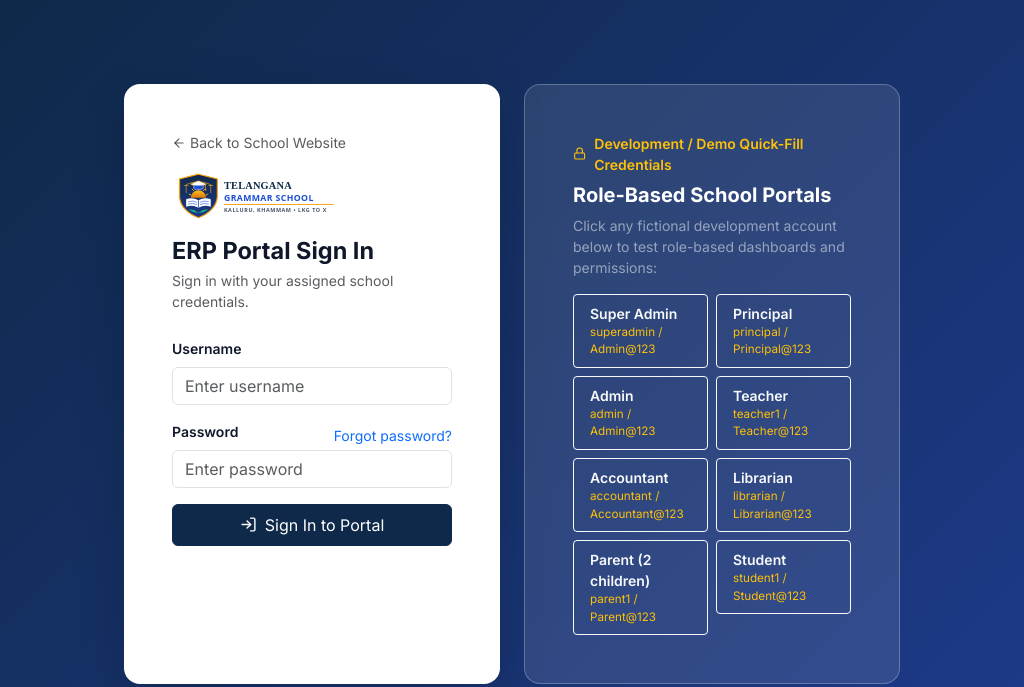
Test: Telangana Grammar School Frontend Suite › redirects unauthenticated portal access to Login and logs in user
Expected: the heading "ERP Portal Sign In" is shown, [172,236,374,265]
Type "admin" into the field labelled "Username" at {"x": 312, "y": 386}, box [172,366,452,404]
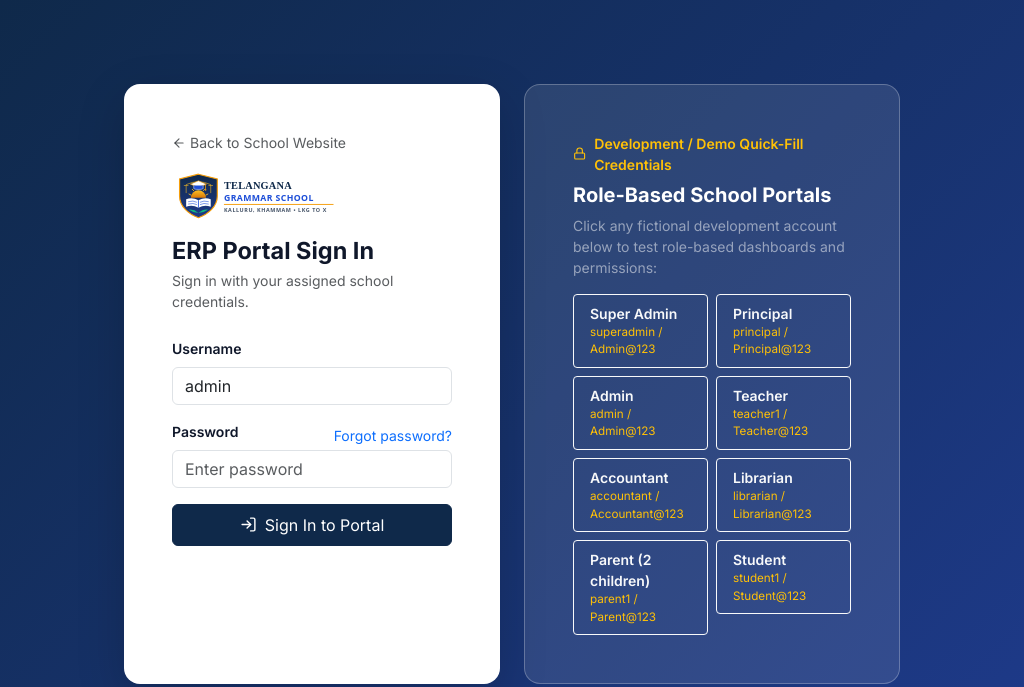
Type "Admin@123" into the password field labelled "Password" at {"x": 312, "y": 468}, box [172,450,452,488]
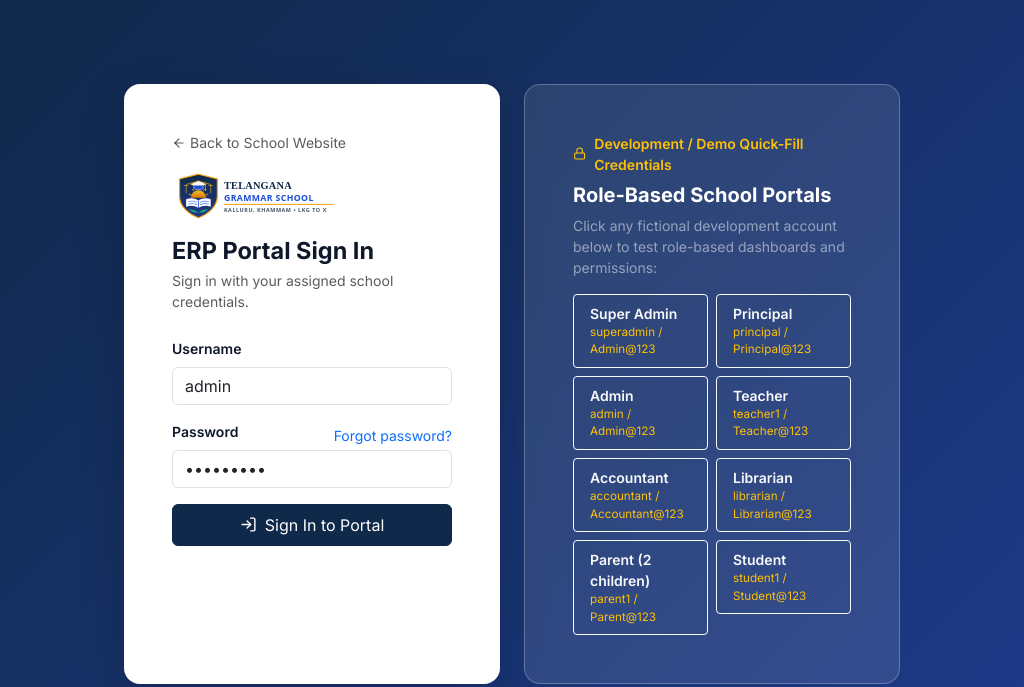
Click the button "Sign In to Portal" at {"x": 312, "y": 524}, box [172,504,452,546]
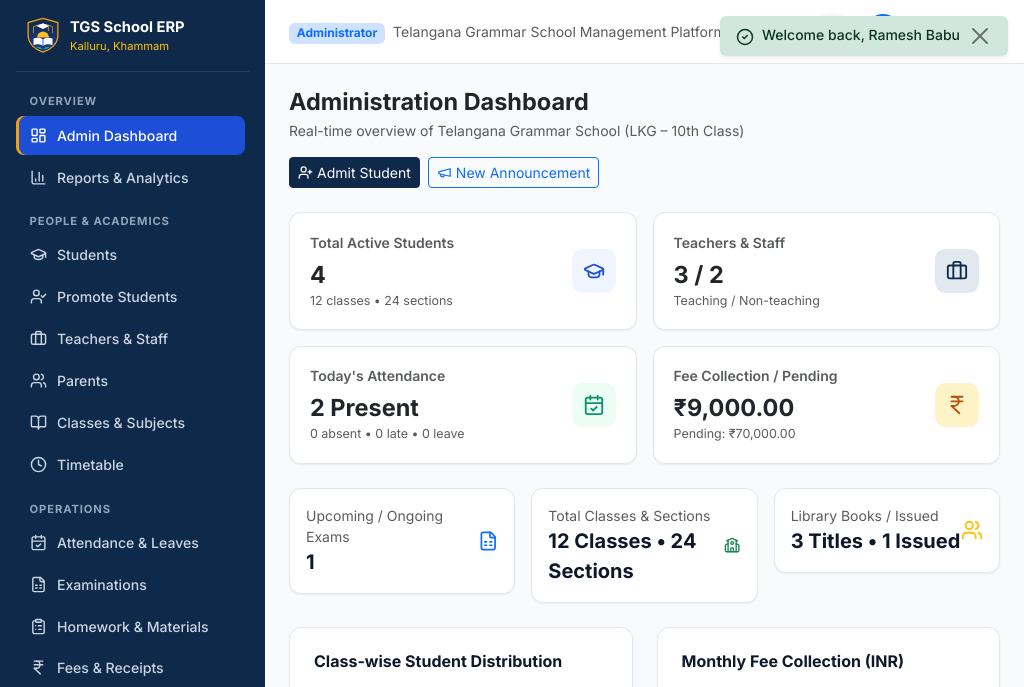
Expected: the heading "Administration Dashboard" is shown, [289,87,589,116]
